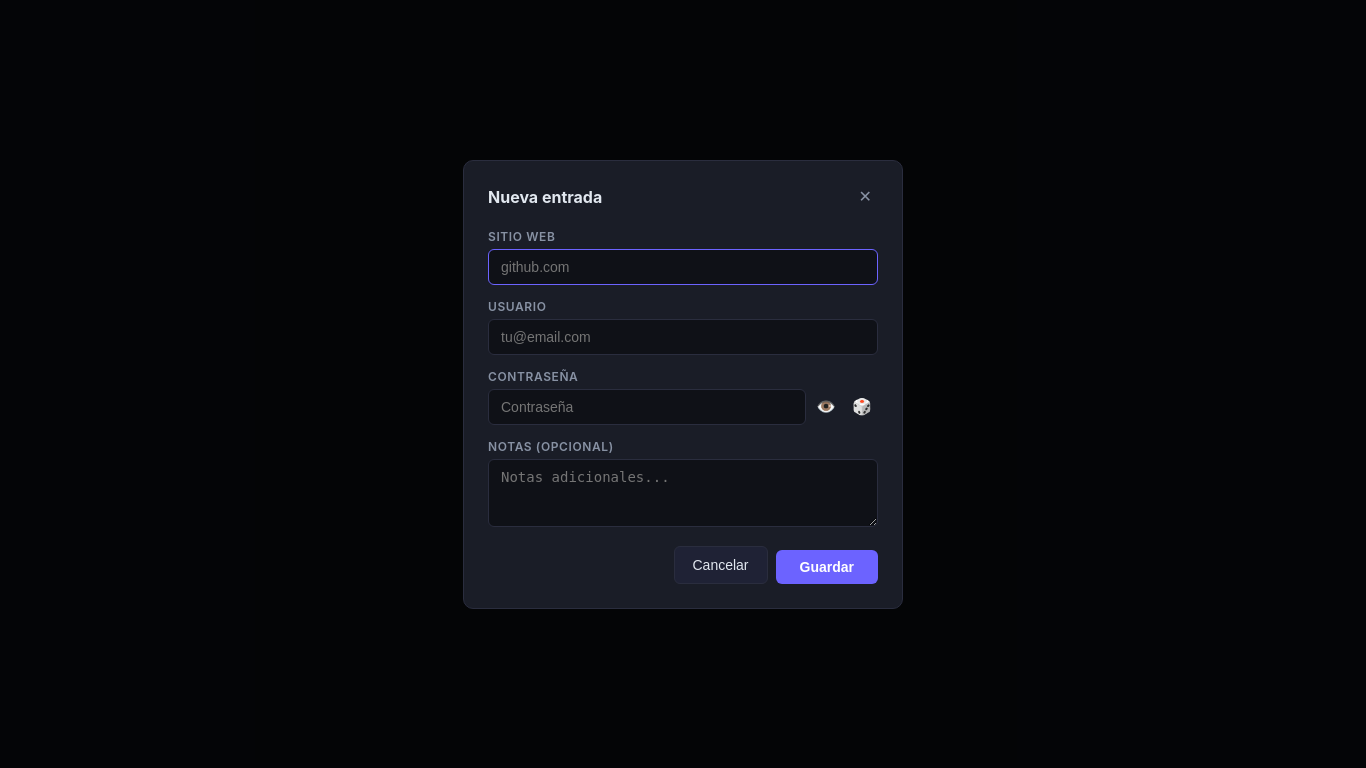
Test case: EntryForm › refuses to save without a site and says so
Type "ada" into the field labelled "Usuario".
click(683, 336); type("ada")  # box [488,318,878,354]
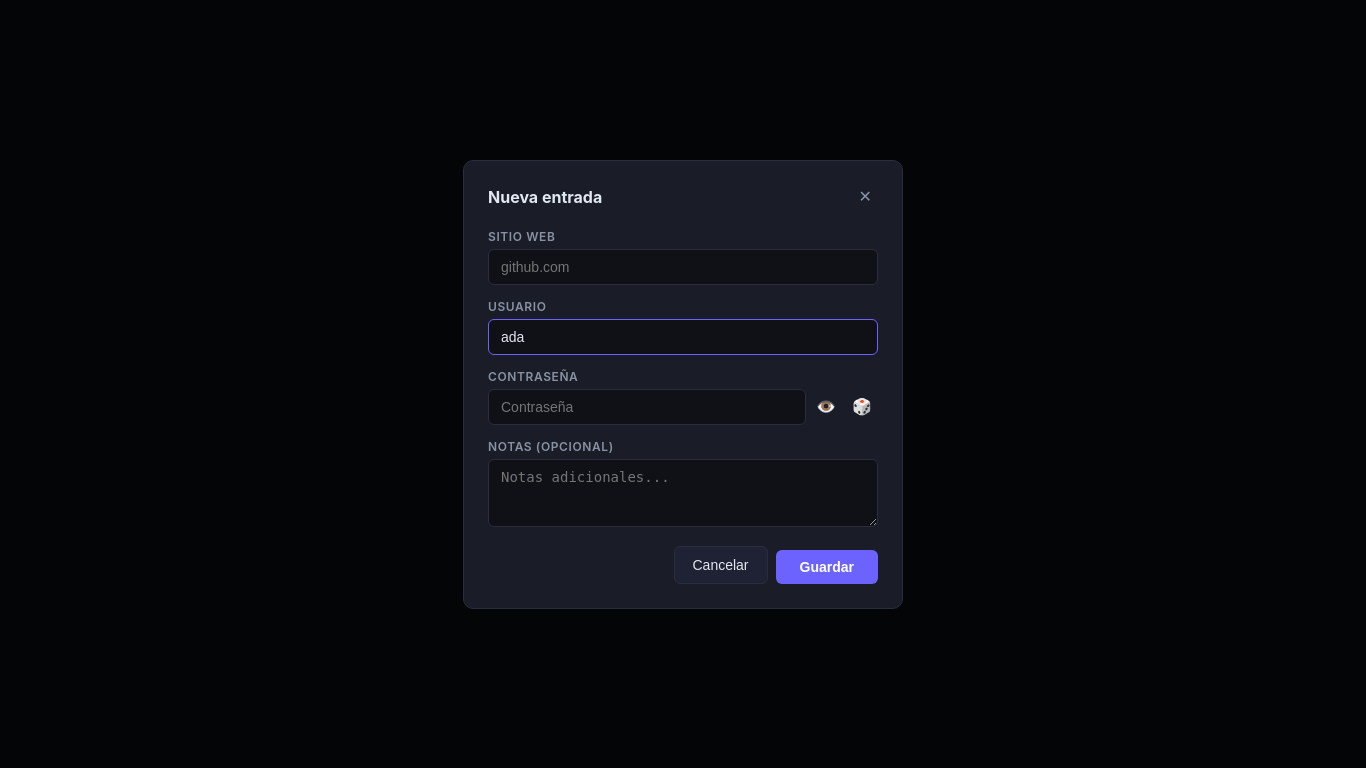
Type "s3cret" into the password field labelled "Contraseña".
click(647, 406); type("s3cret")  # box [488,388,806,424]
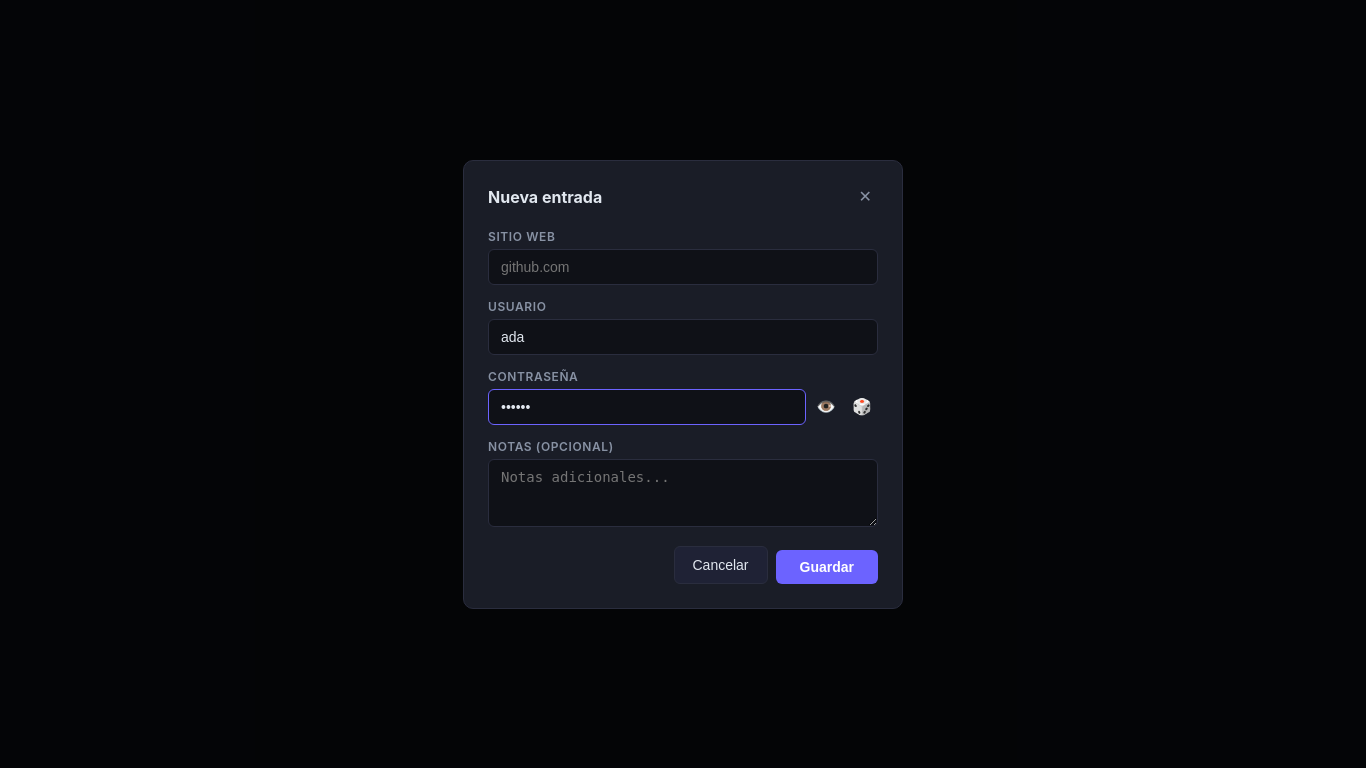
Click the button "Guardar".
click(827, 566)  # box [776,550,878,584]
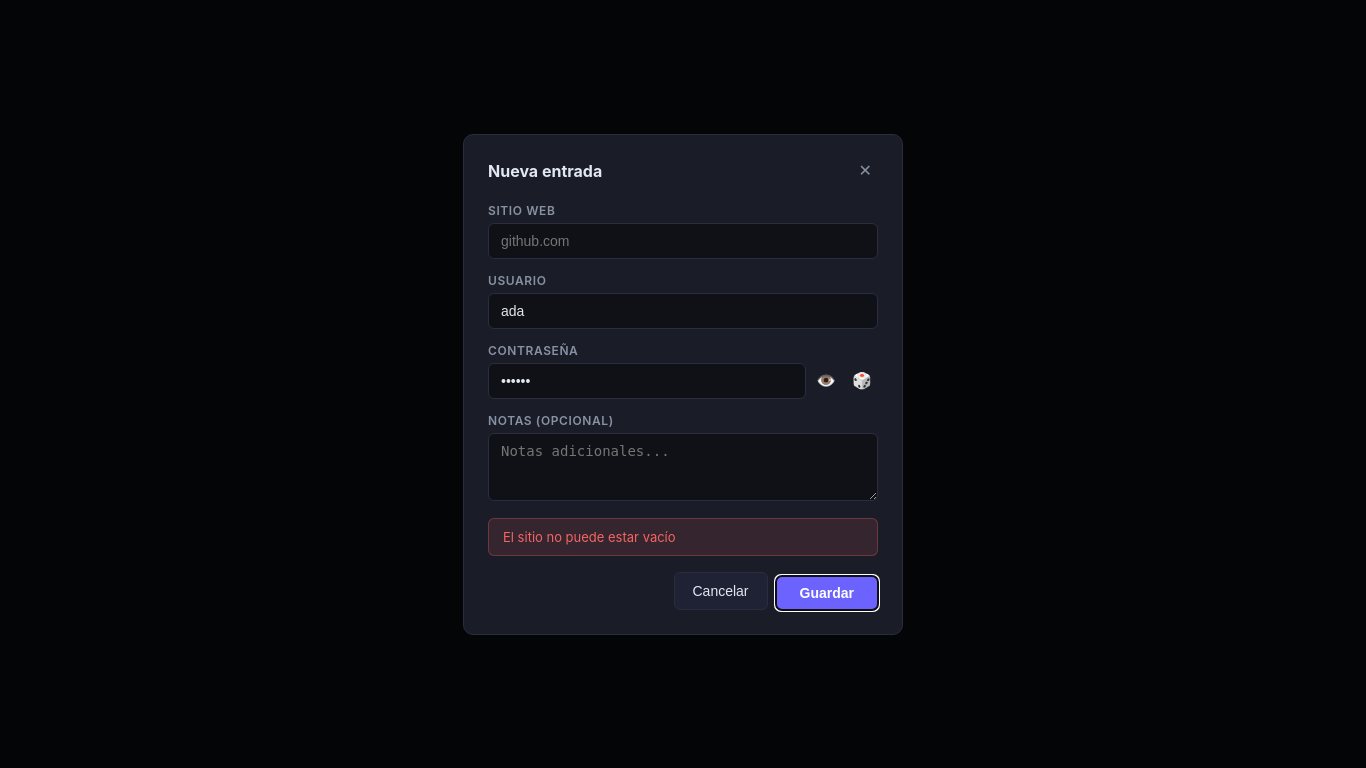
expect the text "El sitio no puede estar vacío" is shown: met, box [488,518,878,556]
